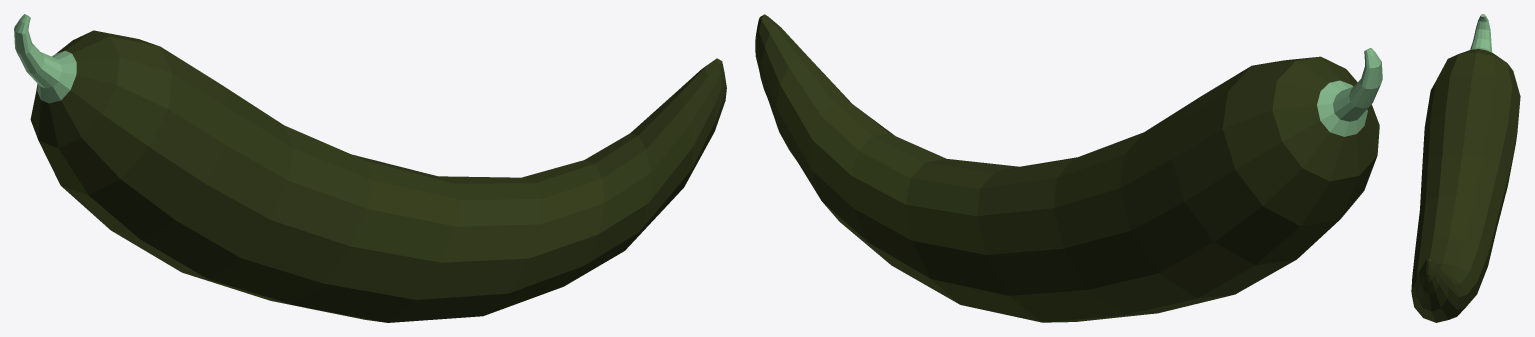
The model's file is chili2.fbx.
3 renders of one model, left to right at view 1: azimuth 30°, elevation 25°; view 2: azimuth 150°, elevation 25°; view 3: azimuth 270°, elevation 25°, orthographic. The views are drawn at different scales.
Parts seen in each view (by area): view 1: chili2; view 2: chili2; view 3: chili2.
Boxes of the visible parts, x1,y1,x2,y2 form: chili2: (14, 14, 726, 322); chili2: (755, 14, 1382, 322); chili2: (1411, 14, 1520, 322).
Size of the model in its own units: 89.29 by 48.37 by 24.92.
